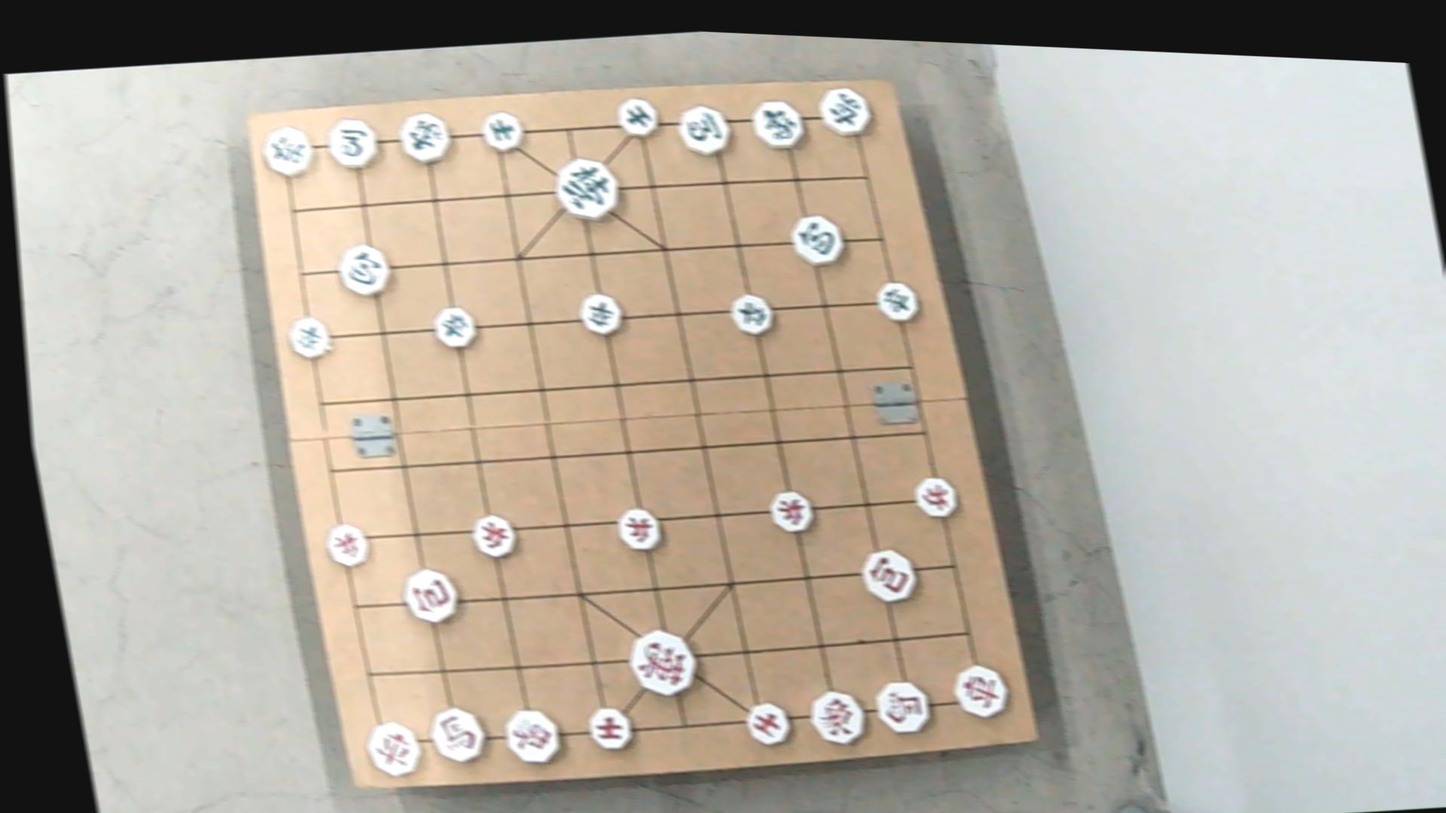cha_green: (259, 123, 318, 179), (814, 85, 875, 139)
cha_red: (364, 723, 426, 781), (950, 662, 1013, 718)
jol_green: (285, 316, 337, 361), (581, 293, 632, 337), (728, 293, 778, 337), (429, 306, 477, 350), (873, 281, 922, 324)
jol_red: (765, 491, 817, 536), (468, 514, 518, 560), (613, 508, 664, 553), (325, 525, 377, 569), (911, 477, 960, 521)
ma_green: (675, 104, 737, 157), (325, 117, 386, 170)
ma_red: (874, 679, 940, 741), (427, 705, 493, 764)
po_green: (336, 243, 396, 300), (786, 214, 847, 268)
po_red: (398, 568, 462, 625), (856, 550, 920, 607)
sa_green: (615, 96, 663, 142), (480, 111, 530, 154)
sa_red: (583, 704, 635, 751), (743, 702, 795, 747)
sang_green: (747, 95, 810, 156), (395, 108, 457, 168)
sang_red: (498, 704, 569, 768), (809, 688, 873, 744)
wang_green: (550, 156, 623, 221)
wang_red: (625, 629, 704, 699)
